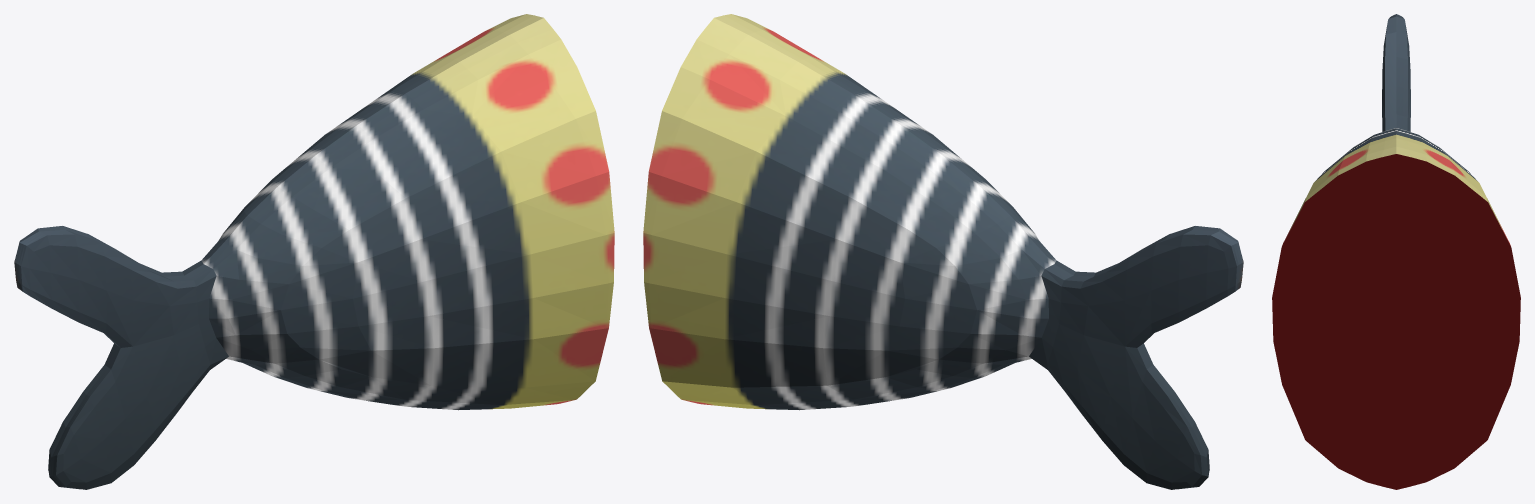
File: CuttedFish_Back.fbx
3 renders of one model, left to right at view 1: azimuth 30°, elevation 25°; view 2: azimuth 150°, elevation 25°; view 3: azimuth 270°, elevation 25°, orthographic. The views are drawn at different scales.
Visible parts, largest first — view 1: CuttedFish_Back; view 2: CuttedFish_Back; view 3: CuttedFish_Back.
Part boxes in pixels (x1=…): CuttedFish_Back: x1=14, y1=14, x2=614, y2=489; CuttedFish_Back: x1=643, y1=14, x2=1243, y2=489; CuttedFish_Back: x1=1272, y1=14, x2=1520, y2=489.
Size of the model in its own units: 40.25 by 27.73 by 18.6.
